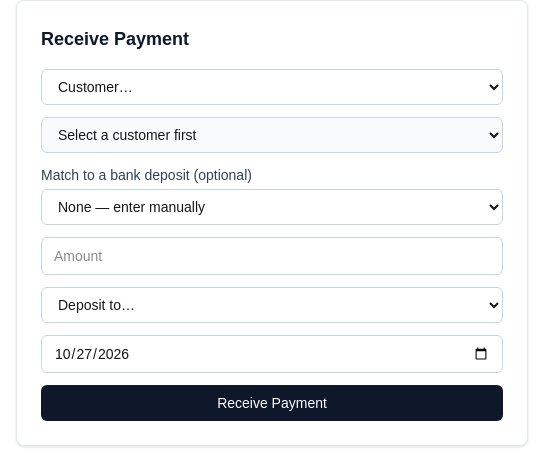
Test: ReceivePaymentForm › matching a bank transaction fills the amount and hides the deposit-account picker
Select "2026-01-01 — Deposit — $100.00" in the dropdown below "Match to a bank deposit (optional)" at (272, 207), box [41,189,503,225]
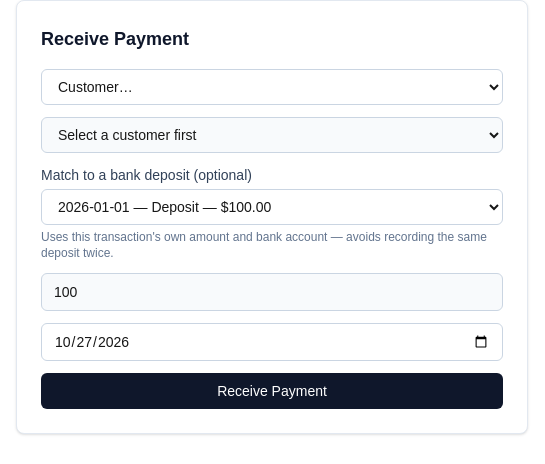
Expected: the text "Deposit to…" is not shown
Now the number field with placeholder "Amount" holds "100", box [41,273,503,311]
